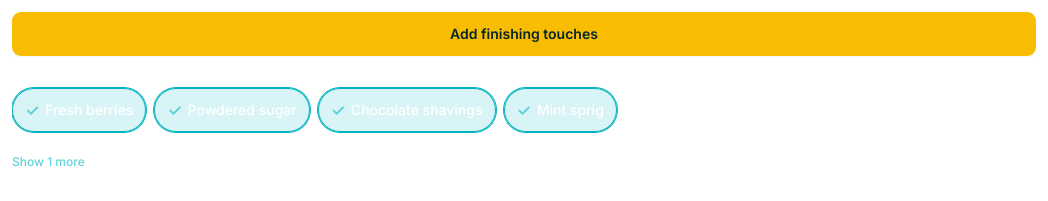
StudioFinishingTouchesControl › disables extra chips once four are selected
The width and height of the screenshot is (1048, 201).
Expected: the button with aria-label "Remove Fresh berries" is enabled, [12,88,146,132]
Click the button "Show 1 more" at [48, 162], box [12,140,85,184]
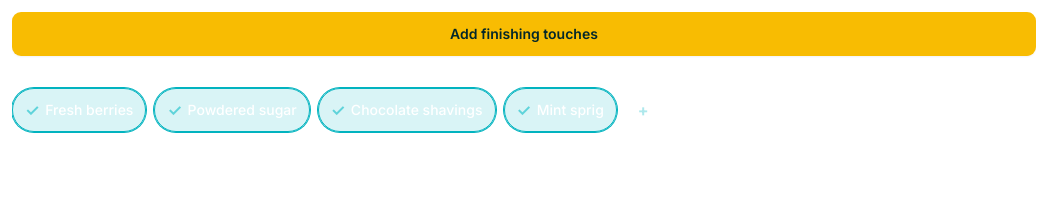
Now the button with aria-label "Add Lemon drizzle" is disabled, box [625,88,762,132]
